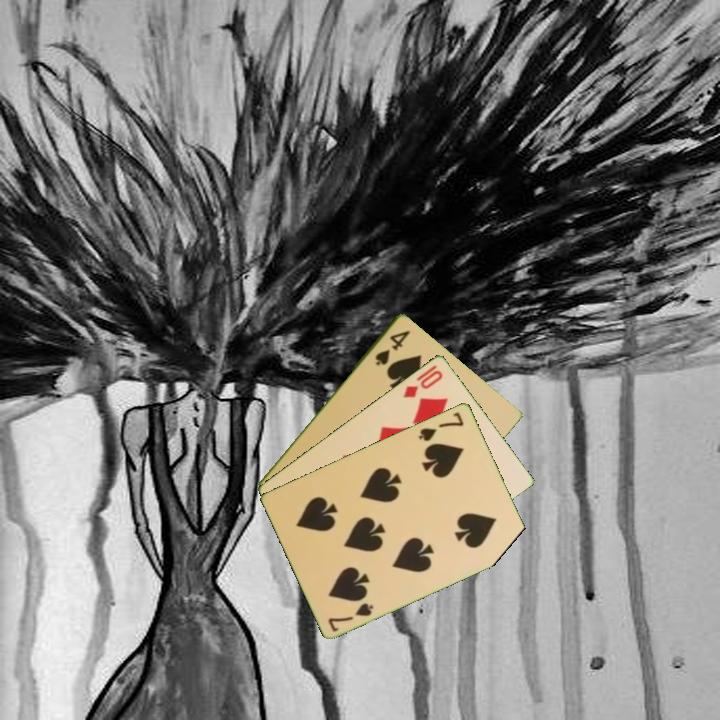10d: (399, 366, 446, 401)
4s: (371, 326, 413, 368)
7s: (415, 408, 467, 444), (324, 599, 376, 634)
